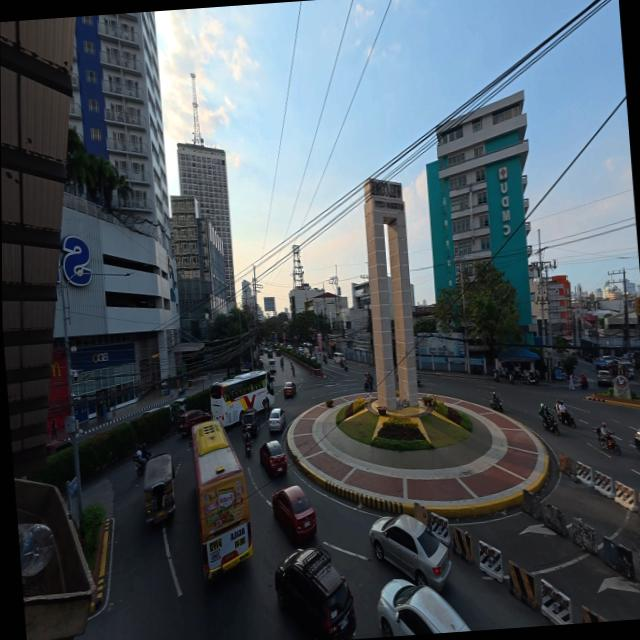bus: (205, 366, 275, 431)
car: (268, 540, 355, 640), (368, 511, 456, 598), (271, 483, 320, 546), (260, 436, 288, 476), (264, 407, 284, 435), (280, 379, 295, 396)
